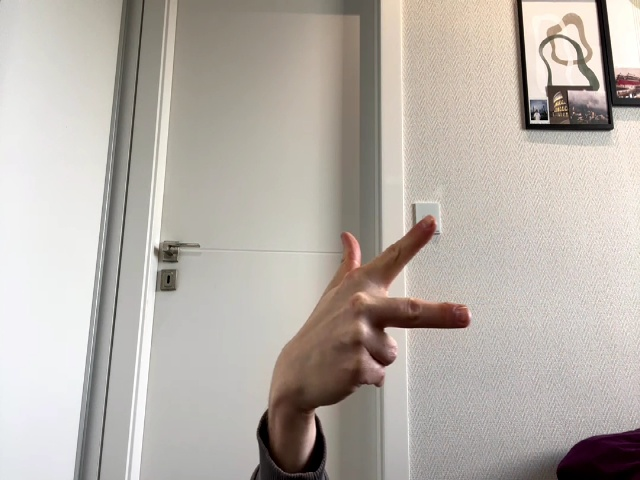K: (276, 215, 472, 423)
